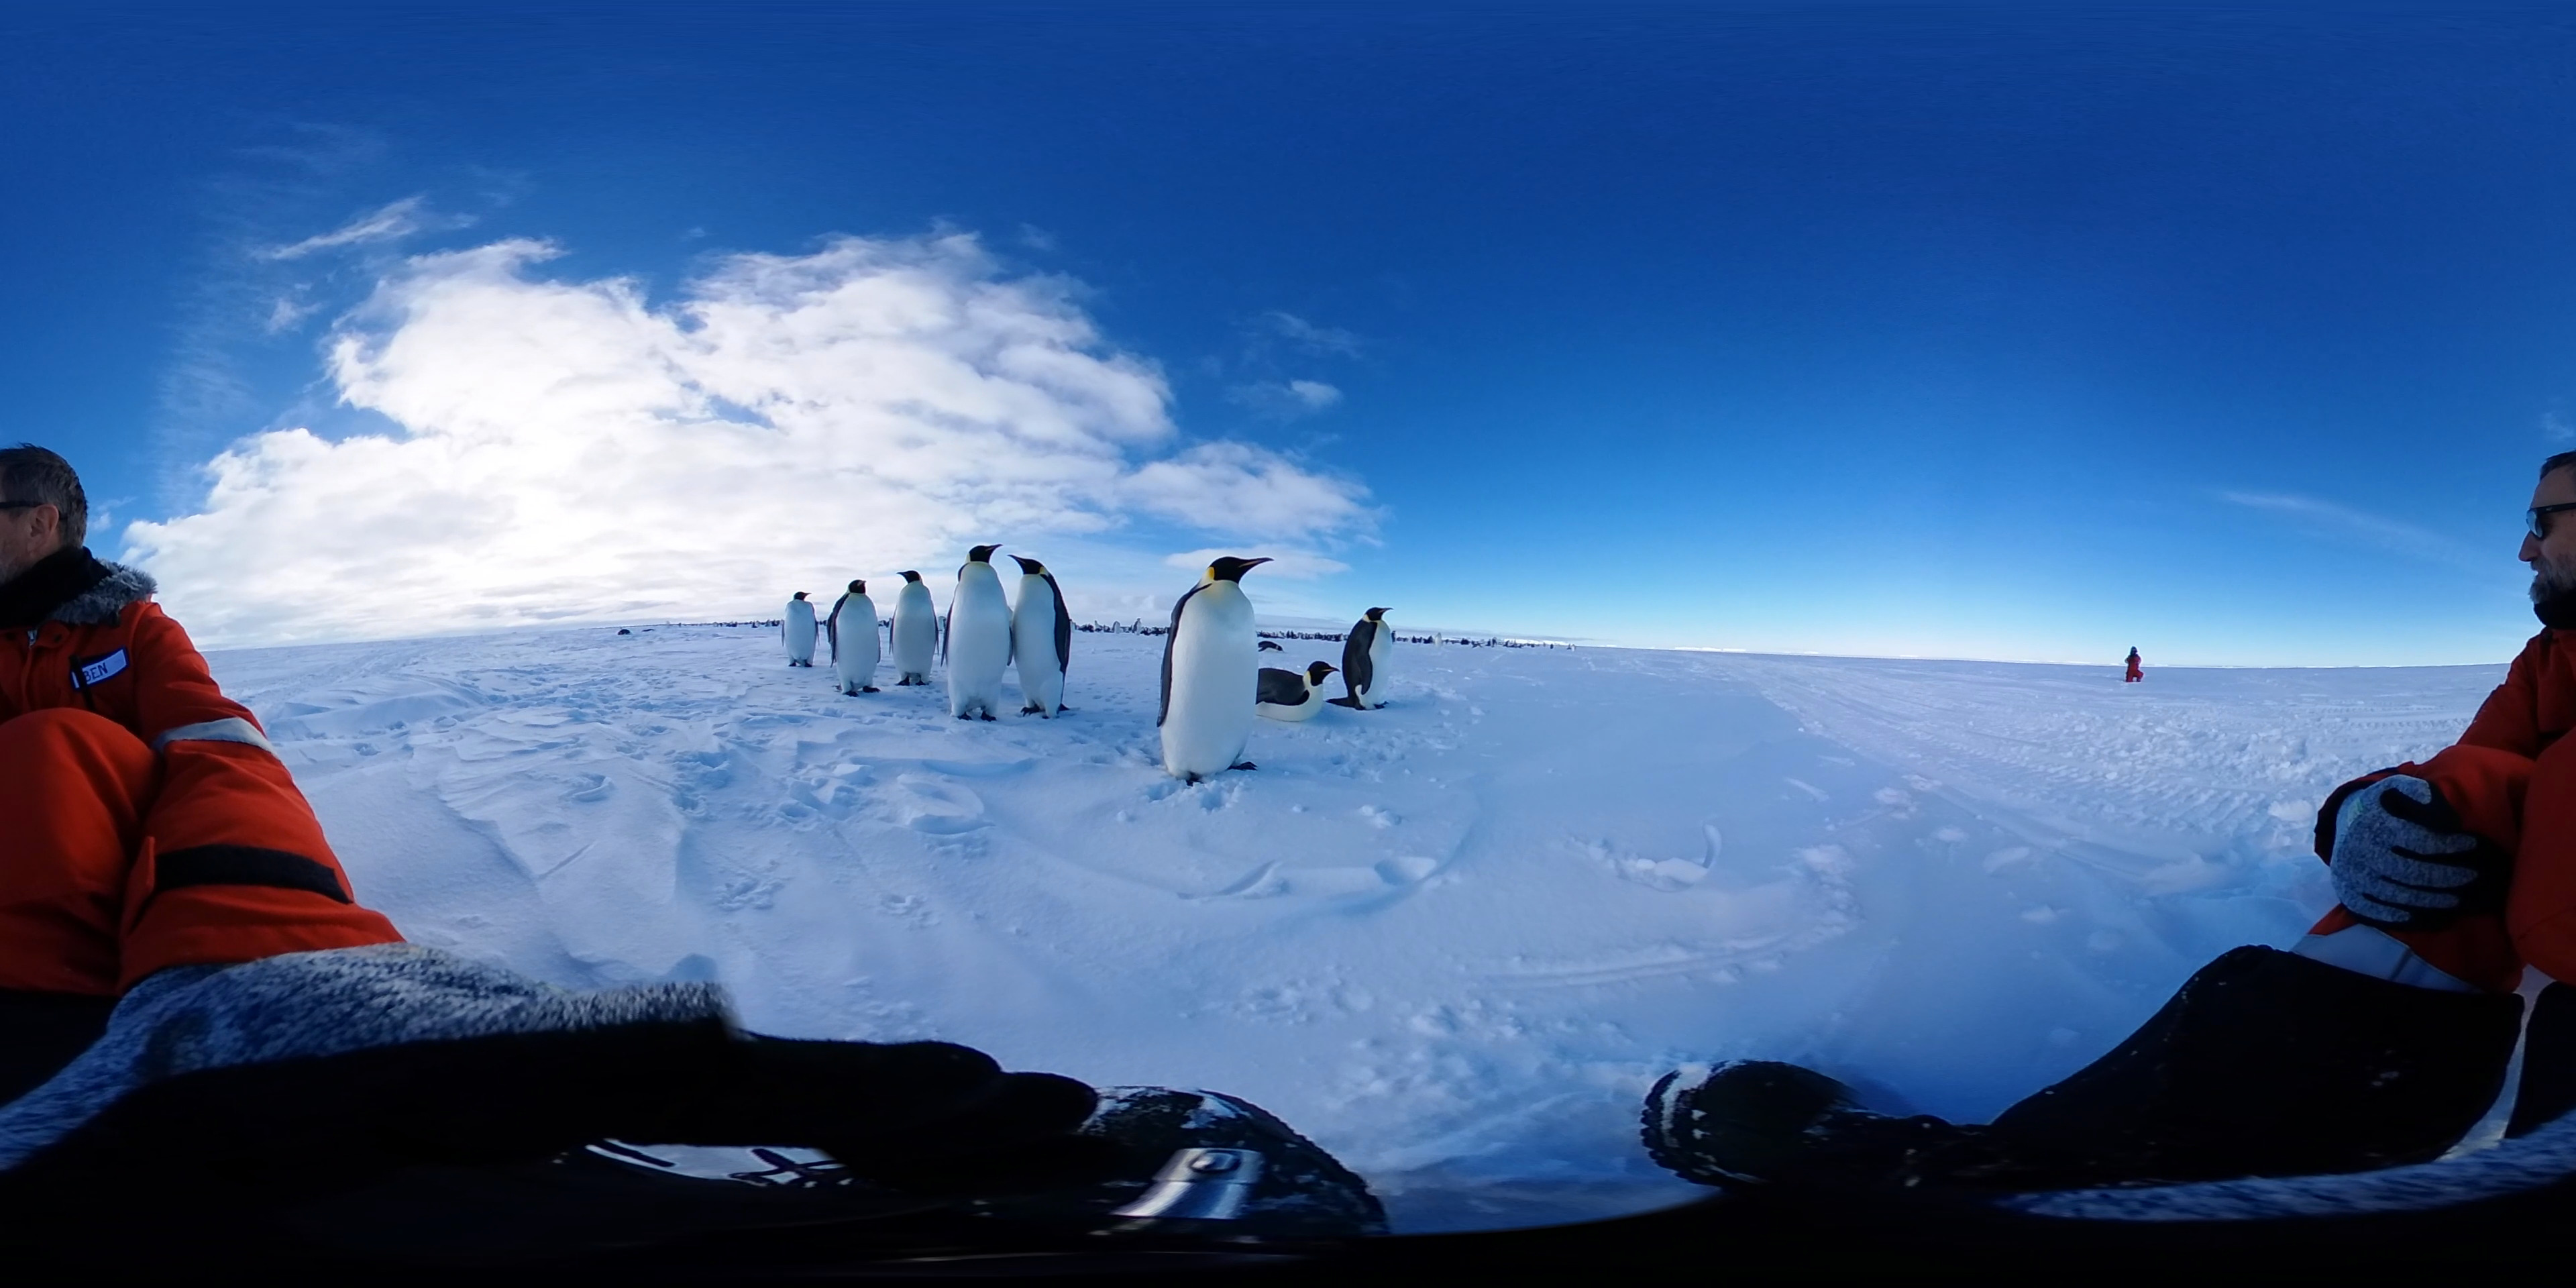adult_standing_penguin: (1150, 547, 1270, 793), (1004, 549, 1073, 721), (945, 544, 1004, 728), (1321, 601, 1400, 715), (825, 575, 882, 701), (889, 568, 940, 692), (779, 590, 823, 674)
adult_toboggan_penguin: (1242, 660, 1337, 723)
researcher: (0, 432, 417, 1288), (2307, 440, 2576, 872), (2119, 641, 2150, 687)
